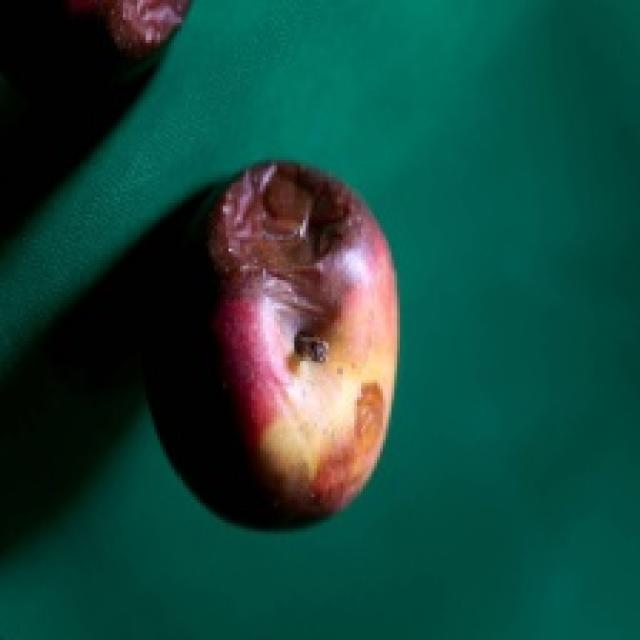rotten_apple: (150, 164, 397, 522)
